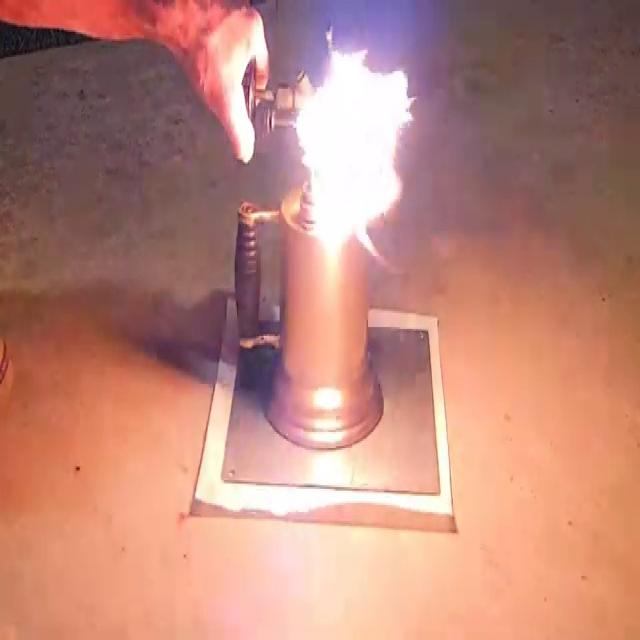fire: (292, 42, 416, 270)
